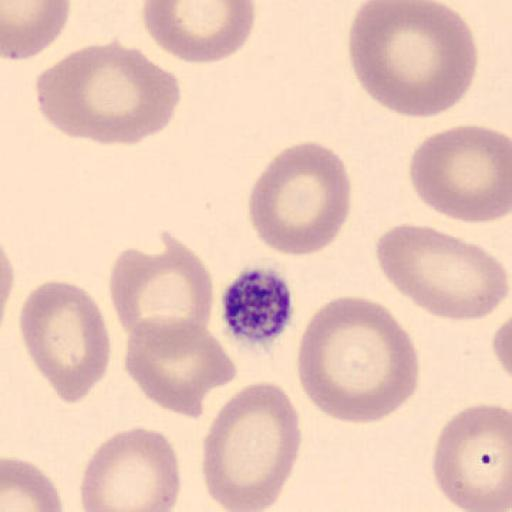Platelet: (219, 263, 297, 348)
RBC: (295, 294, 420, 427), (345, 0, 479, 121), (33, 40, 183, 146), (200, 381, 303, 512), (376, 222, 509, 322), (122, 312, 238, 420), (247, 139, 352, 257), (18, 278, 112, 407), (108, 242, 216, 349), (409, 122, 511, 226), (78, 426, 182, 512), (431, 402, 512, 512), (140, 0, 257, 66), (2, 0, 72, 62), (0, 455, 64, 512), (0, 240, 17, 338), (490, 310, 512, 377), (1, 239, 16, 314)
